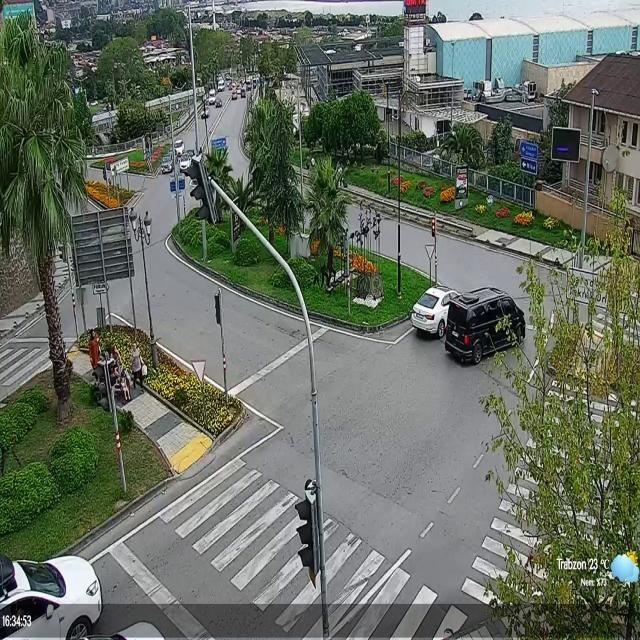Car: (0, 556, 103, 640), (411, 286, 461, 335)
Van: (442, 288, 526, 365)
